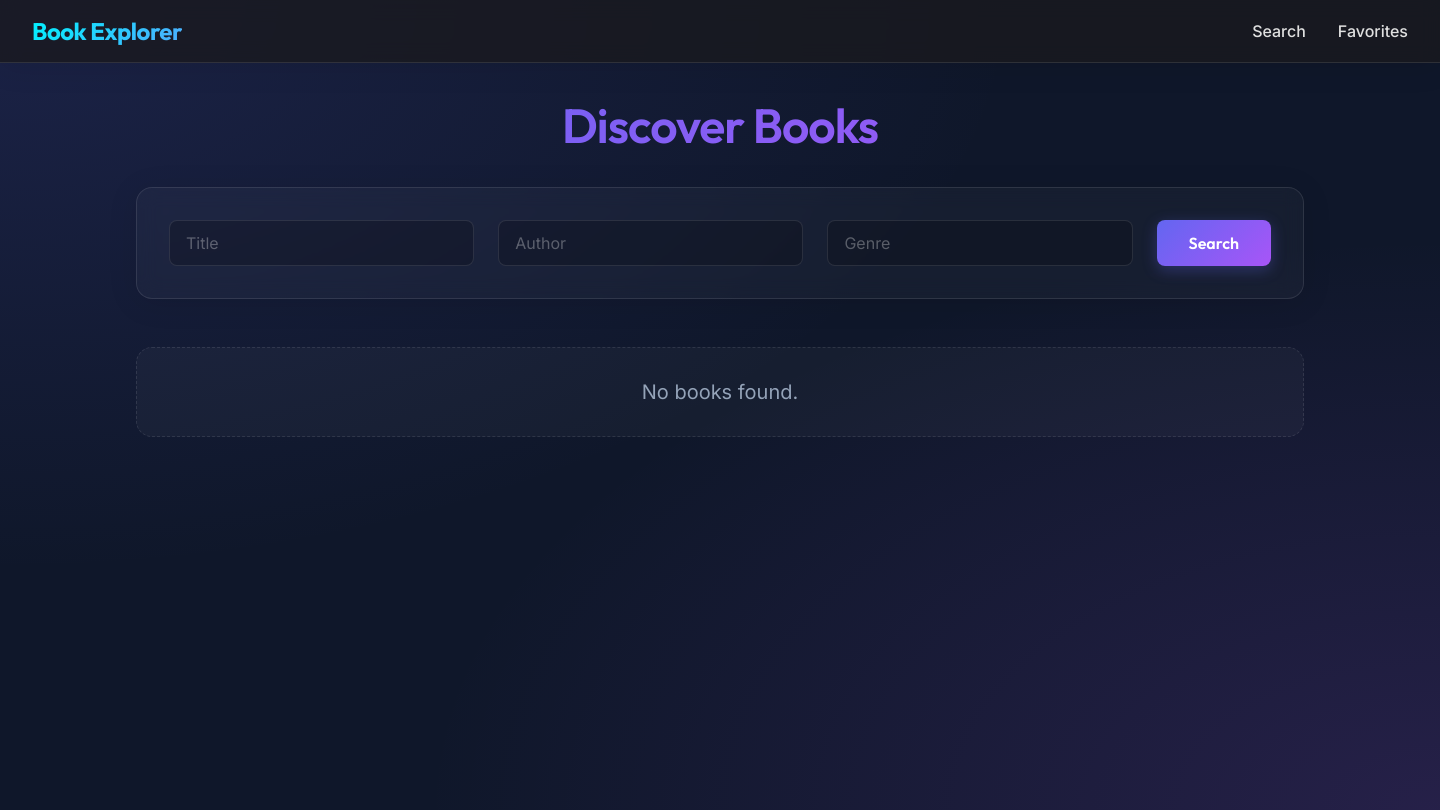
Test case: AppRoutes › navigates between Search and Favorites pages
Expected: the button "Search" is shown, [1157,220,1271,266]
Click the link "Favorites" at (1373, 31), box [1338,21,1408,41]
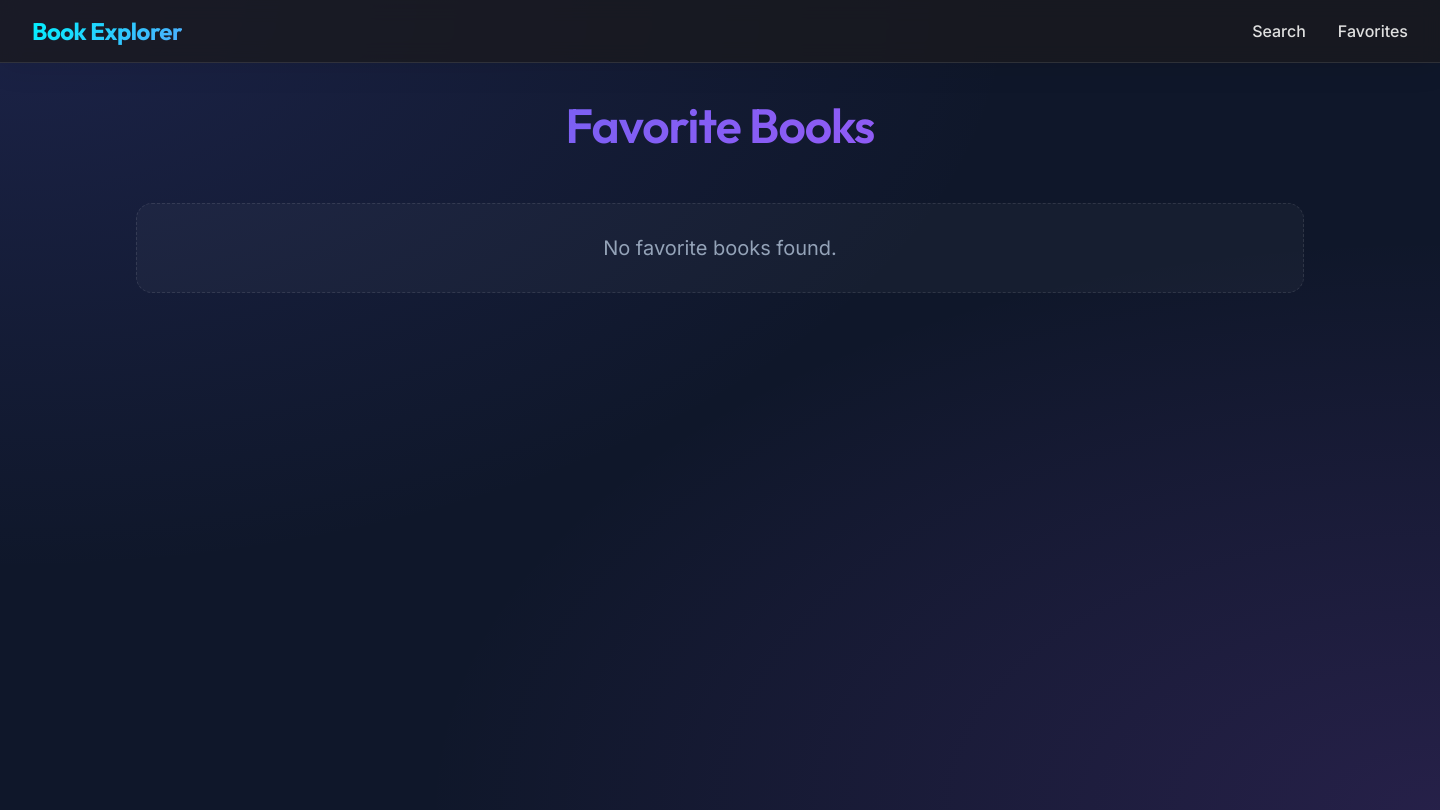
Now the text "No favorite books found." is shown, box [136,203,1304,293]
